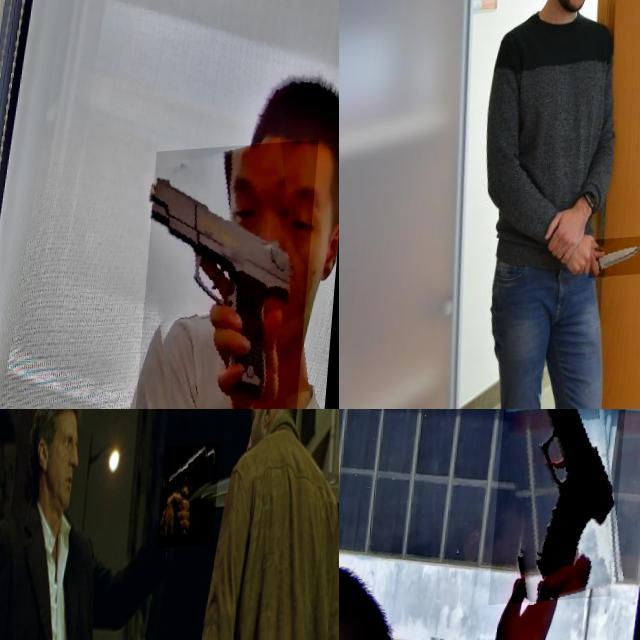-: (596, 242, 640, 284)
gun-knife-thesis - v11 Yolov5 augmented: (142, 149, 322, 409), (495, 409, 635, 609), (160, 447, 223, 552)
